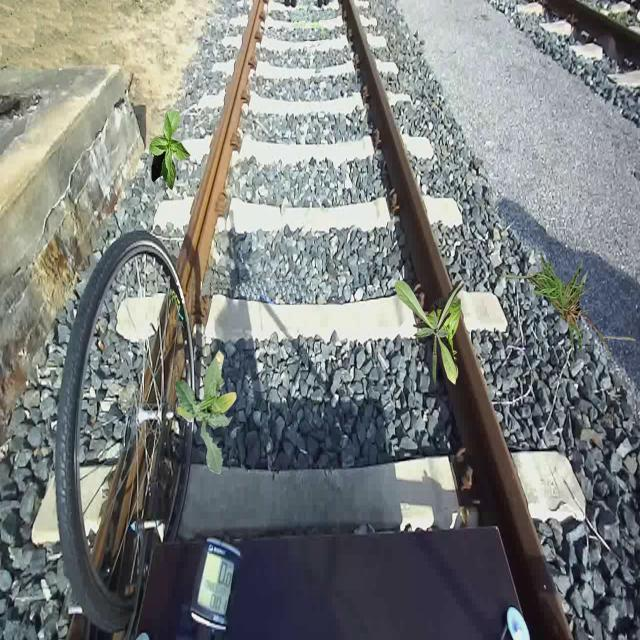Plant: (493, 252, 636, 372), (175, 350, 238, 474), (394, 278, 466, 386), (149, 110, 191, 190), (426, 297, 462, 380)
